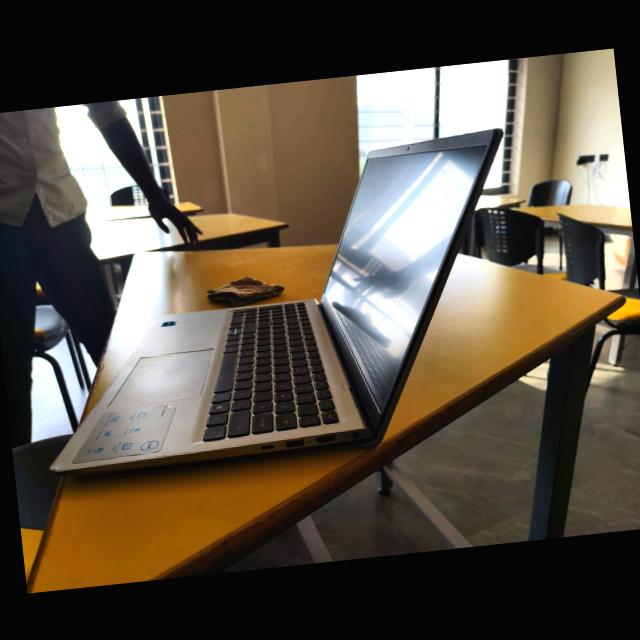laptop: (51, 122, 536, 496)
